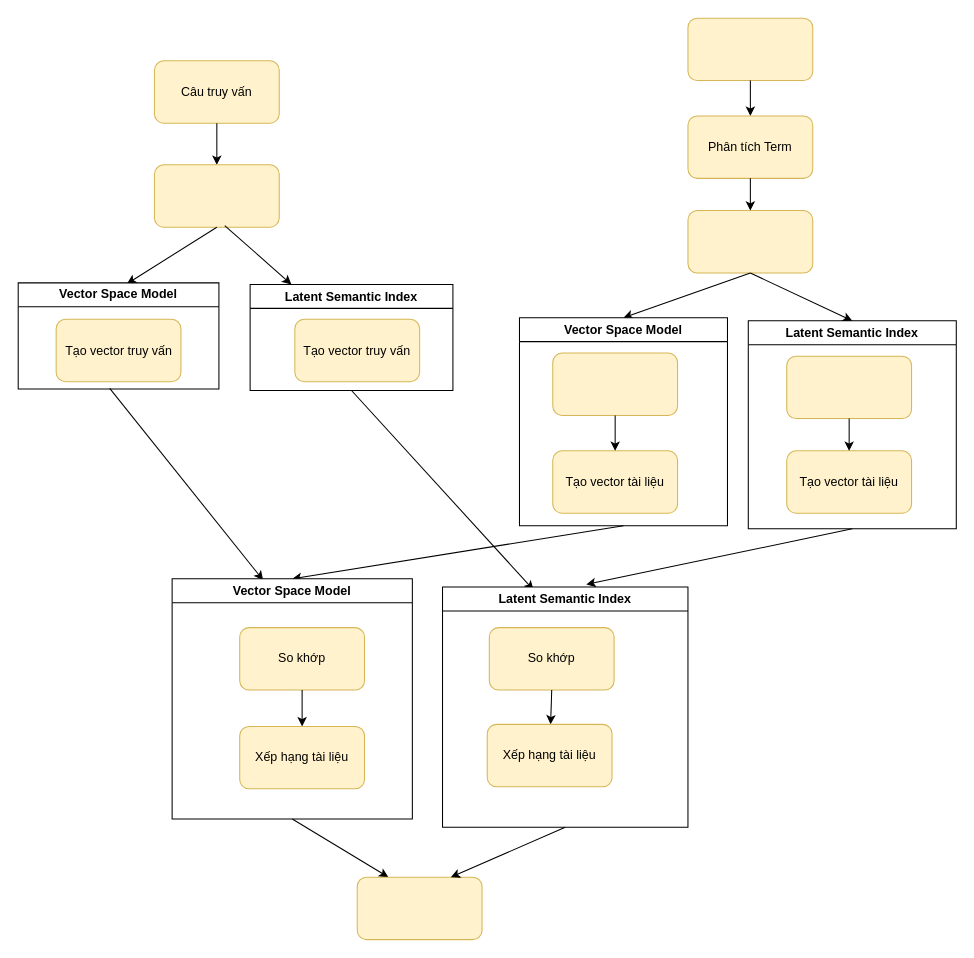
The diagram is 974 pixels wide and 958 high, and some of its shapes have lost their labels. Each missing label, with the centre of its shape:
"Bộ tài liệu" goes at [750,49].
"Danh sách tài liệu liên quan" goes at [419,908].
"Lập chỉ mục" goes at [615,383].
"Tiền xử lý bộ tài liệu" goes at [750,241].
"Tiền xử lý truy vấn" goes at [216,195].
"Tạo ma trận doc-term" goes at [849,387].
